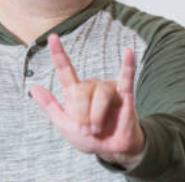back: (29, 33, 140, 159)
